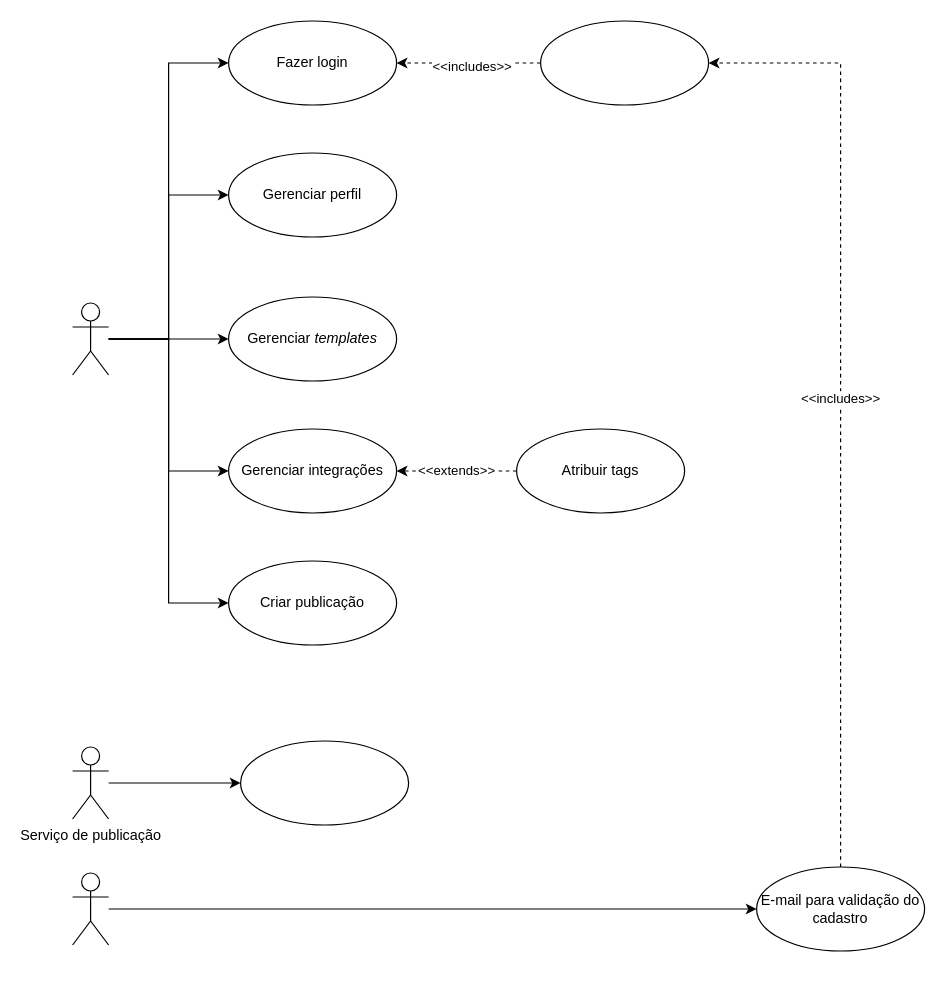
Image size: 946x991. Some labels were removed from this diagram. Here are the shapes that lost their labels. From the top down, the centre of each, then its label:
(624,62): Criar conta
(90,338): Cliente
(324,782): Publicar nas redes sociais
(90,908): Serviço de e-mails
